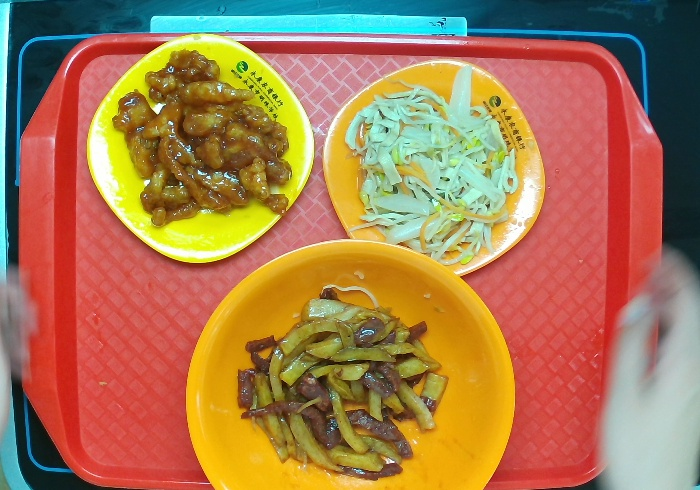YKMZ-Huang_Se_Fang_Die: (84, 32, 315, 268)
YKMZ-Ju_Se_Fang_Die: (322, 58, 548, 280)
YKMZ-Ju_Se_Tang_Wan: (184, 239, 516, 490)
